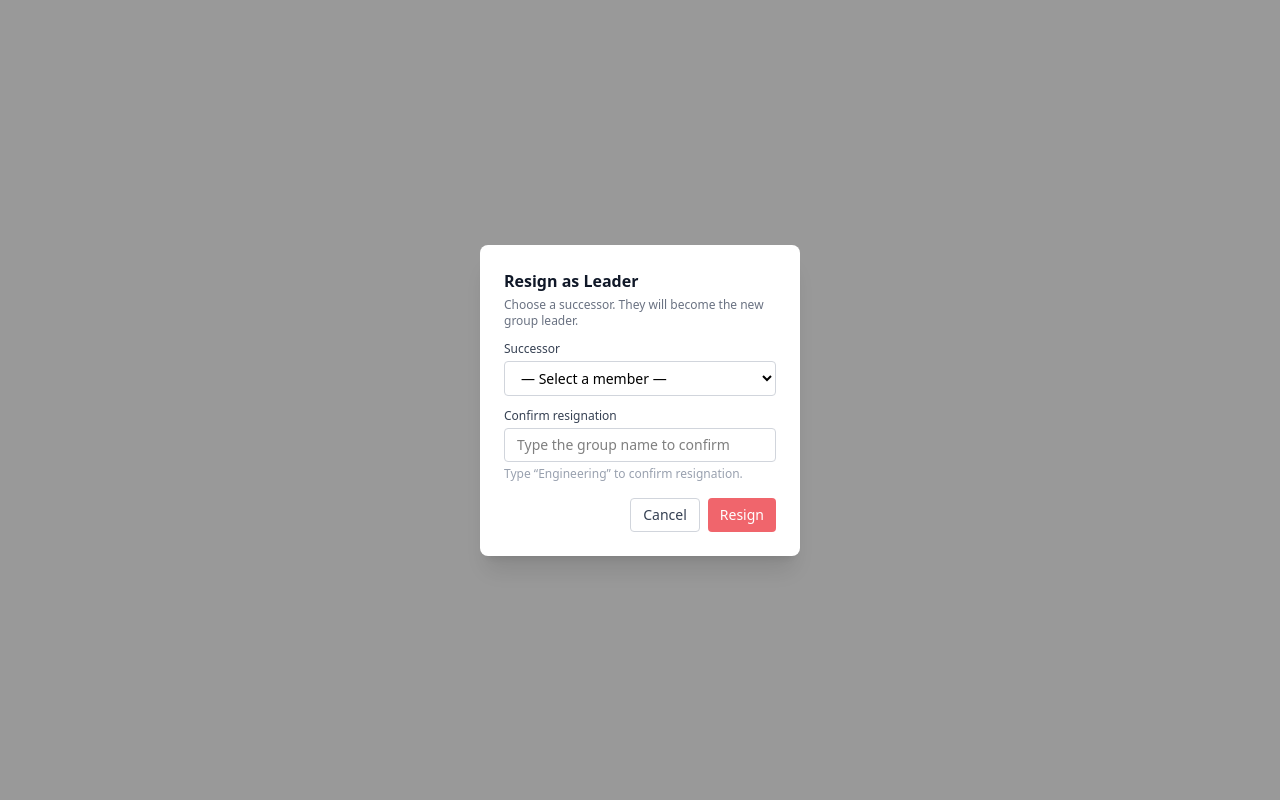
Test: ResignLeaderModal › enables submit when successor selected and group name confirmed
The width and height of the screenshot is (1280, 800).
Select "Bob Smith (@bob)" in the dropdown at (640, 378), box x1=504 y1=360 x2=776 y2=396
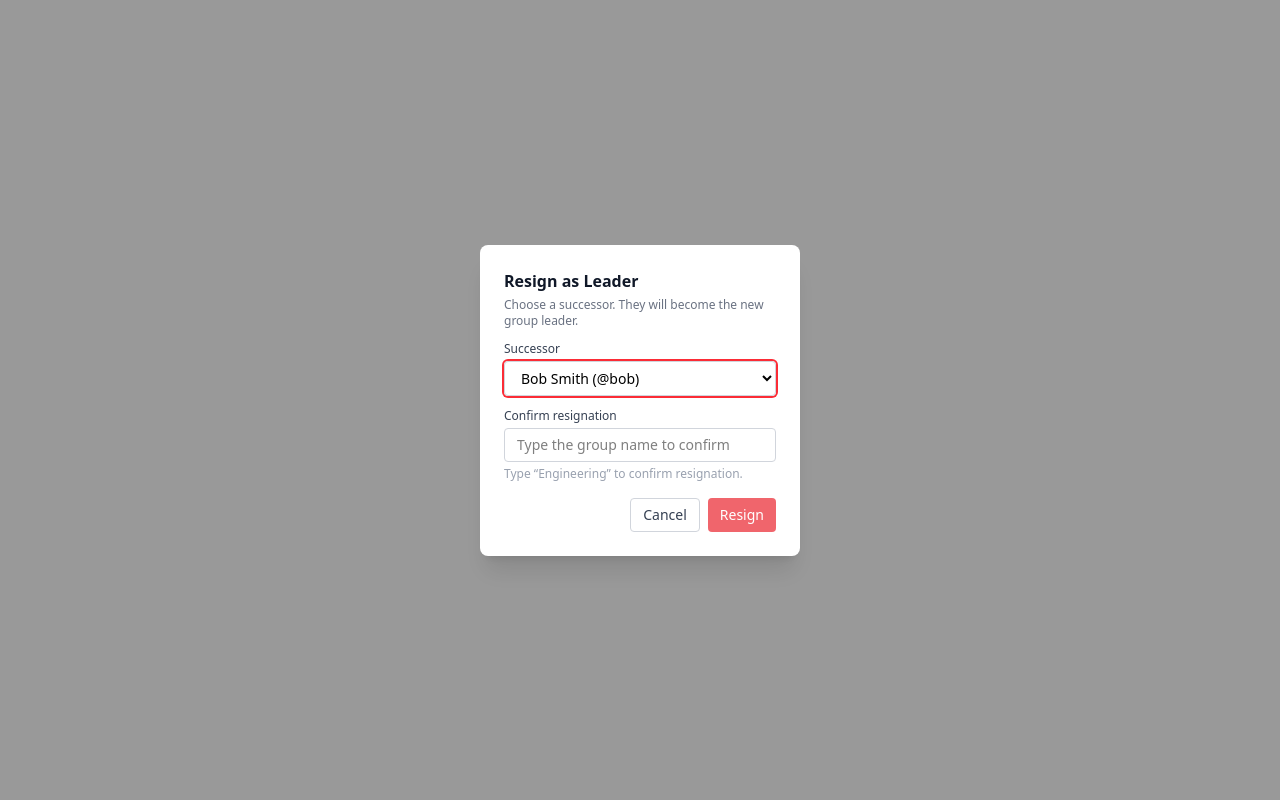
Type "Engineering" into the field with placeholder "Type the group name to confirm" at (640, 444), box x1=504 y1=428 x2=776 y2=462
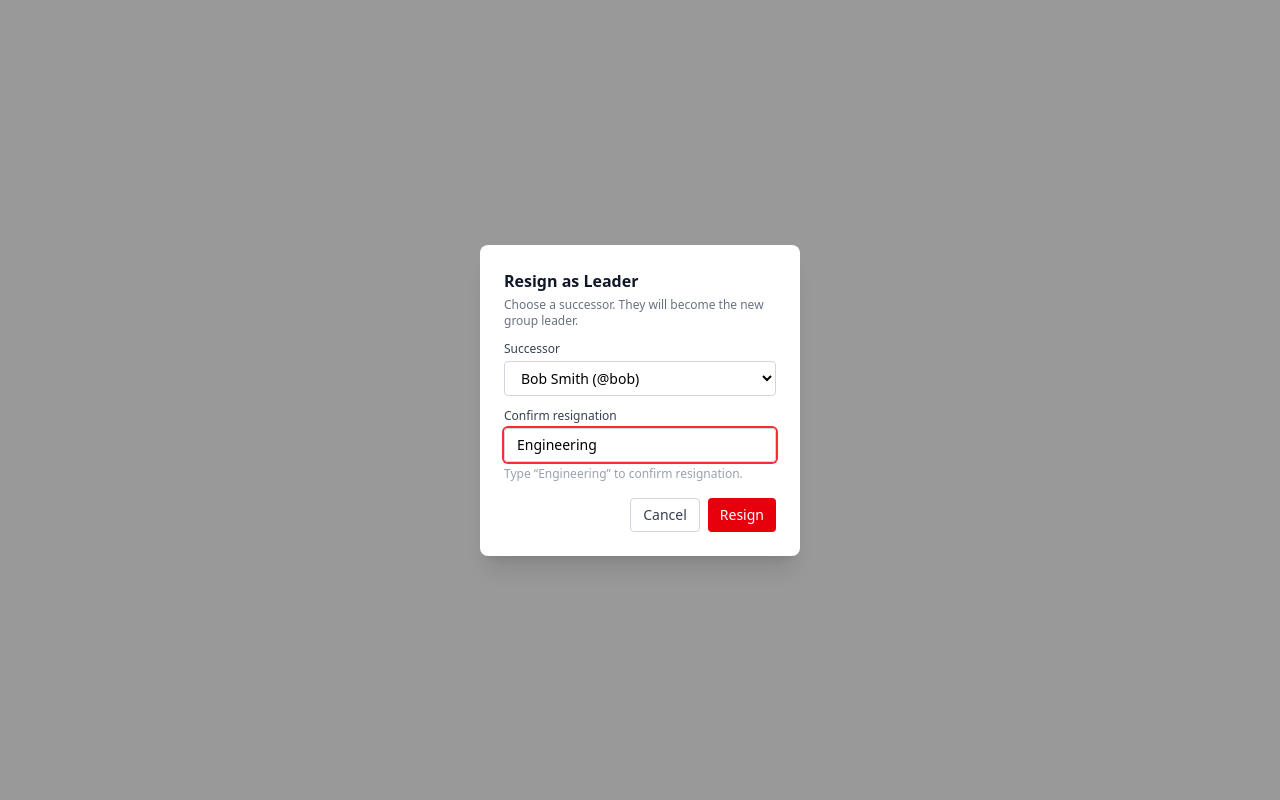
Check: the button "Resign" is enabled, box x1=708 y1=498 x2=776 y2=532
